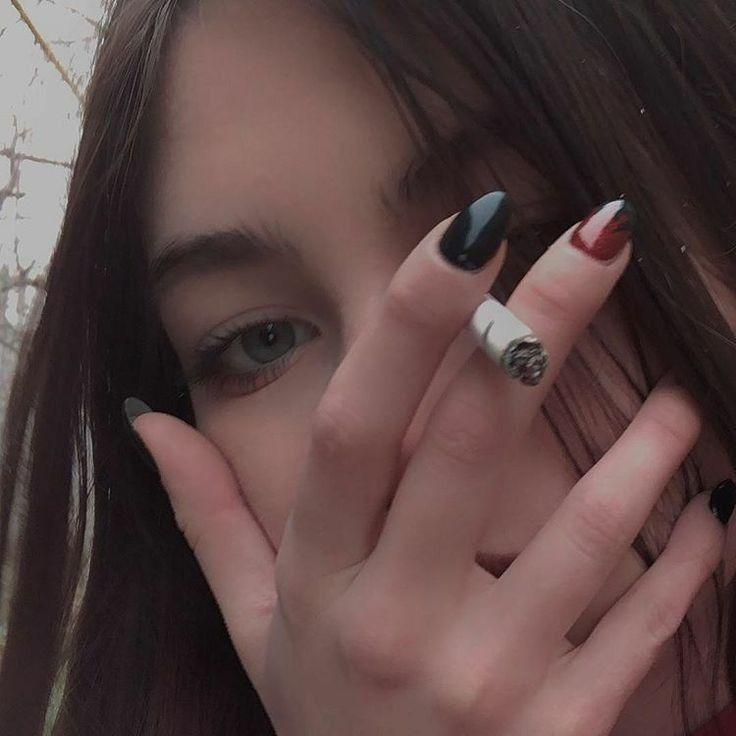cigarette: (465, 293, 549, 388)
